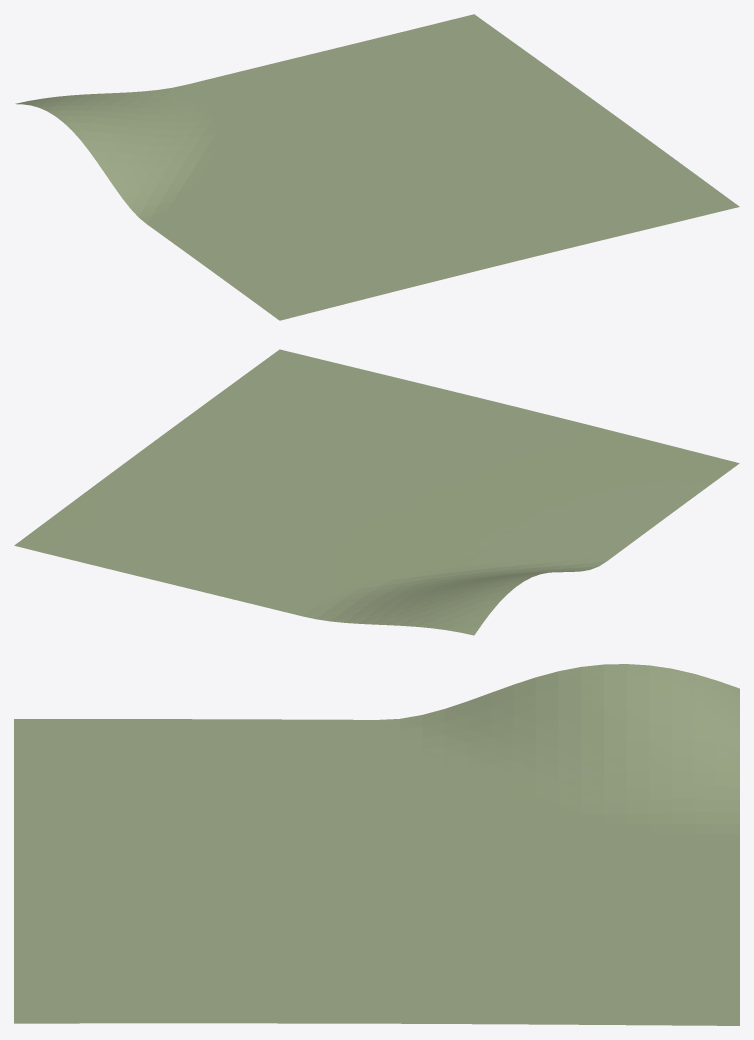
The model's file is desert-14-12.glb.
The picture shows the model from 3 angles, top to bottom: view 1: azimuth 30°, elevation 25°; view 2: azimuth 150°, elevation 25°; view 3: azimuth 270°, elevation 25°; orthographic projection. The views are drawn at different scales.
Parts seen in each view (by area): view 1: desert-14-12; view 2: desert-14-12; view 3: desert-14-12.
Boxes of the visible parts, x1=… form: desert-14-12: x1=15, y1=14, x2=739, y2=320; desert-14-12: x1=14, y1=349, x2=739, y2=635; desert-14-12: x1=14, y1=664, x2=739, y2=1025.
Size of the model in its own units: 512 by 43.54 by 512.
